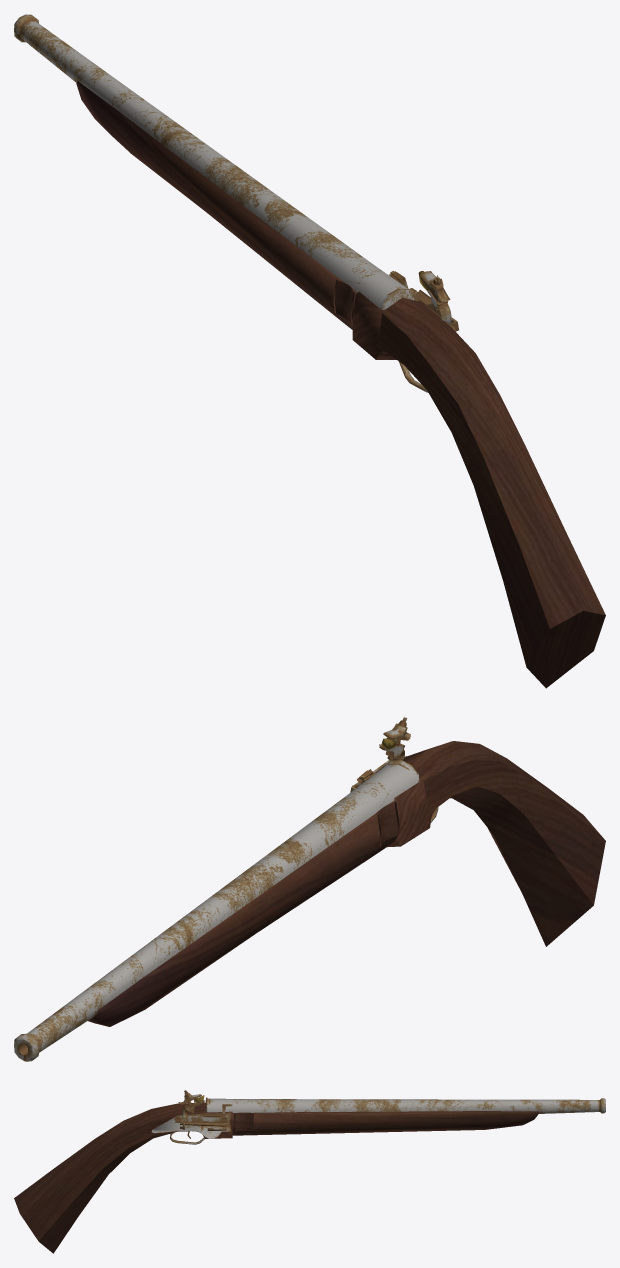
The model's file is SM_FucileFocaia.fbx.
The picture shows the model from 3 angles, top to bottom: view 1: azimuth 30°, elevation 25°; view 2: azimuth 150°, elevation 25°; view 3: azimuth 270°, elevation 25°; orthographic projection. The views are drawn at different scales.
Visible parts, largest first — view 1: Cube.001; view 2: Cube.001; view 3: Cube.001.
Part boxes in pixels (x1,y1,x2,y2): Cube.001: (14, 14, 605, 688); Cube.001: (14, 717, 605, 1061); Cube.001: (14, 1090, 605, 1253).
Bounding box in the file's own units: 9.47 × 42.61 × 136.
